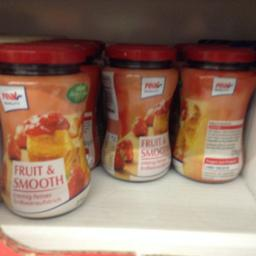jam: (0, 42, 91, 220), (172, 44, 254, 182), (100, 41, 178, 183)
